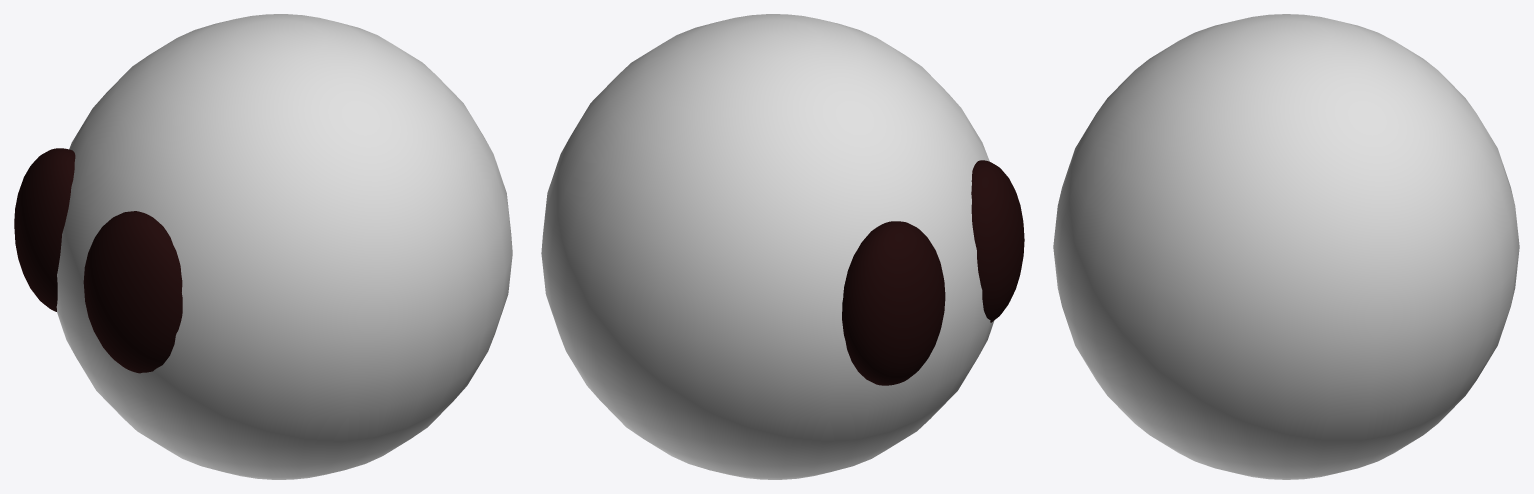
The model's file is wisp_v2.FBX.
3 views of the same model, side by side, from view 1: azimuth 30°, elevation 25°; view 2: azimuth 150°, elevation 25°; view 3: azimuth 270°, elevation 25° (orthographic).
Visible parts, largest first — view 1: Sphere111, Sphere112; view 2: Sphere111, Sphere112; view 3: Sphere111.
Boxes of the visible parts, x1,y1,x2,y2 form: Sphere111: [56, 14, 512, 479]; Sphere112: [14, 148, 182, 373]; Sphere111: [541, 14, 993, 479]; Sphere112: [842, 160, 1024, 385]; Sphere111: [1053, 14, 1519, 479].
Bounding box in the file's own units: 73.49 × 71.67 × 71.67.
